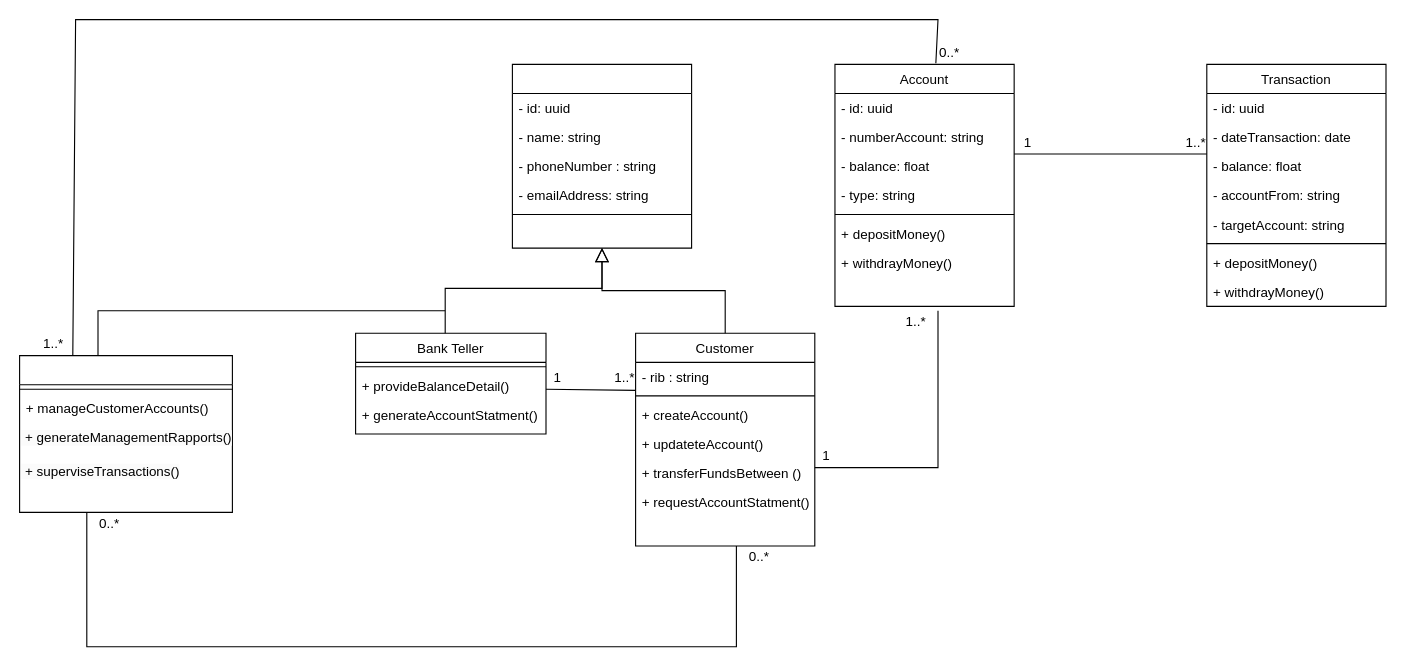
Image size: 1406x668. Some labels were removed from this diagram. Here are the shapes that lost their labels. From the top down, the box of each, then its label:
(511, 63, 692, 248): User
(18, 354, 232, 512): Admin
